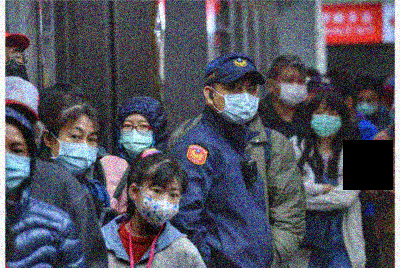with_mask: (53, 124, 100, 176), (214, 80, 259, 128), (137, 185, 182, 229), (5, 135, 32, 196), (119, 117, 156, 159), (275, 72, 308, 109), (309, 106, 343, 140), (5, 47, 31, 81), (355, 95, 379, 121)
